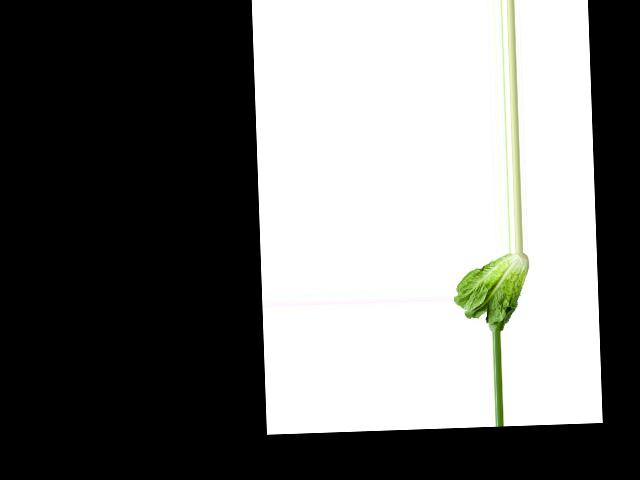lettuce: (451, 253, 532, 331)
